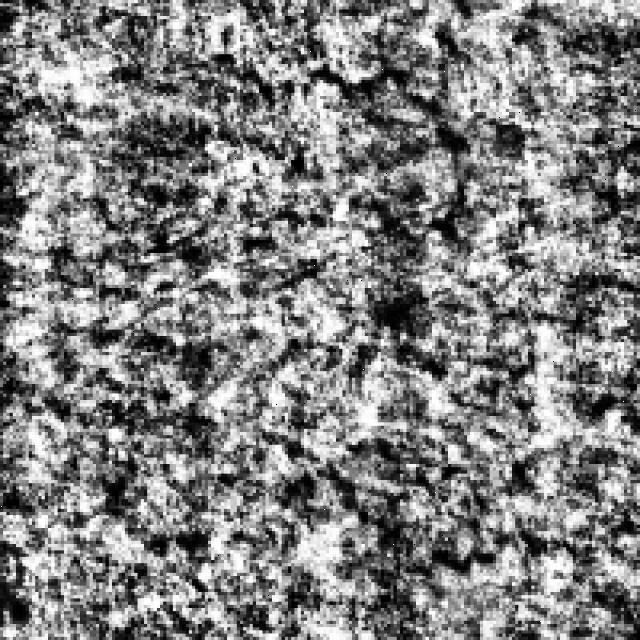Pitted_Surface: (211, 32, 490, 243), (310, 422, 570, 573)
